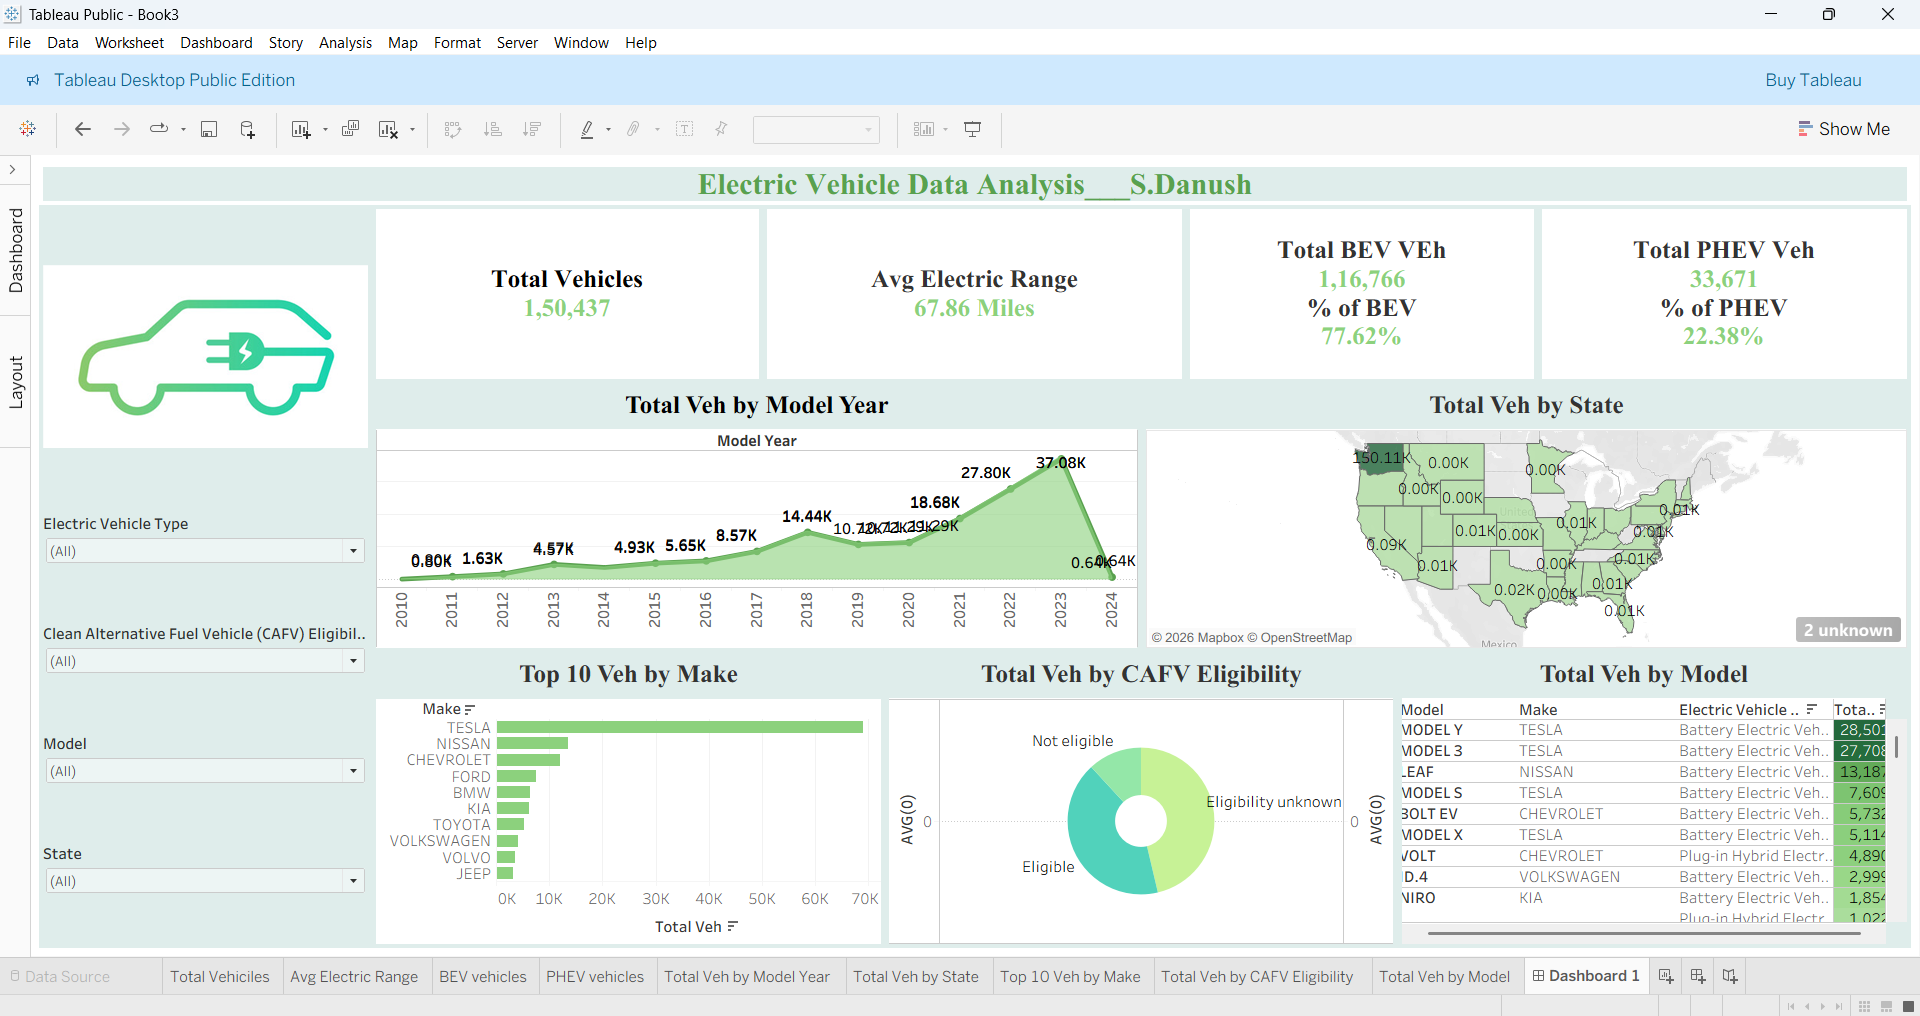

The dashboard page shown, as its layout file describes it:
{"tool":"tableau","page":{"name":"Dashboard 1","canvas":[1000,1000],"units":"permille","ordinal":0},"visuals":[{"type":"title","box":[4.2,10,991.5,52.4]},{"type":"image","param":"Image/img project.jpeg","box":[4.2,62.4,176.3,379.4]},{"type":"worksheet","title":"Total Vehiciles","mark":"Automatic","box":[180.6,62.4,207.3,222.2]},{"type":"worksheet","title":"Avg Electric Range","mark":"Automatic","box":[387.9,62.4,223.9,222.2]},{"type":"worksheet","title":"BEV vehicles","mark":"Automatic","box":[611.8,62.4,186.6,222.2]},{"type":"worksheet","title":"PHEV vehicles","mark":"Automatic","box":[798.4,62.4,197.4,222.2]},{"type":"worksheet","title":"Total Veh by Model Year","mark":"Line","rows":["Calculation_1653149130170368","Calculation_1653149130170368"],"cols":["Model Year"],"box":[180.6,284.6,407.8,335.8]},{"type":"worksheet","title":"Total Veh by State","mark":"Automatic","box":[588.5,284.6,407.3,335.8]},{"type":"filter","title":"Total Veh by Model","param":"[federated.1w9euu50q5byc11bhnchj18oxdn1].[none:Electric Vehicle Type:nk]","box":[4.2,441.9,176.4,137.3]},{"type":"filter","title":"Total Veh by CAFV Eligibility","param":"[federated.1w9euu50q5byc11bhnchj18oxdn1].[none:Clean Alternative Fuel Vehicle (C","box":[4.2,579.3,176.4,137.3]},{"type":"worksheet","title":"Top 10 Veh by Make","mark":"Automatic","rows":["Make"],"cols":["Calculation_1653149130170368"],"box":[180.6,620.5,271.7,369.5]},{"type":"worksheet","title":"Total Veh by CAFV Eligibility","mark":"Pie","rows":["Calculation_1653149162500107","Calculation_1653149162500107"],"box":[452.3,620.5,271.7,369.5]},{"type":"worksheet","title":"Total Veh by Model","mark":"Square","rows":["Model","Make","Electric Vehicle Type"],"box":[724.1,620.5,271.7,369.5]},{"type":"filter","title":"Total Veh by Model","param":"[federated.1w9euu50q5byc11bhnchj18oxdn1].[none:Model:nk]","box":[4.2,716.6,176.4,137.3]},{"type":"filter","title":"Total Veh by State","param":"[federated.1w9euu50q5byc11bhnchj18oxdn1].[none:State:nk]","box":[4.2,853.9,176.4,136.1]}]}

Visuals, with their boxes on the dashboard's canvas, which has no fixed pixel size, in thousandths of its width and height (x1, y1, x2, y2). These are canvas units, not pixel positions in the 1920x1016 screenshot, which may show the page scaled, cropped or inside an application window:
title: region(4, 10, 996, 62)
image: region(4, 62, 180, 442)
"Total Vehiciles" worksheet: region(181, 62, 388, 285)
"Avg Electric Range" worksheet: region(388, 62, 612, 285)
"BEV vehicles" worksheet: region(612, 62, 798, 285)
"PHEV vehicles" worksheet: region(798, 62, 996, 285)
"Total Veh by Model Year" worksheet (Line marks): region(181, 285, 588, 620)
"Total Veh by State" worksheet: region(588, 285, 996, 620)
"Total Veh by Model" filter: region(4, 442, 181, 579)
"Total Veh by CAFV Eligibility" filter: region(4, 579, 181, 717)
"Top 10 Veh by Make" worksheet: region(181, 620, 452, 990)
"Total Veh by CAFV Eligibility" worksheet (Pie marks): region(452, 620, 724, 990)
"Total Veh by Model" worksheet (Square marks): region(724, 620, 996, 990)
"Total Veh by Model" filter: region(4, 717, 181, 854)
"Total Veh by State" filter: region(4, 854, 181, 990)
